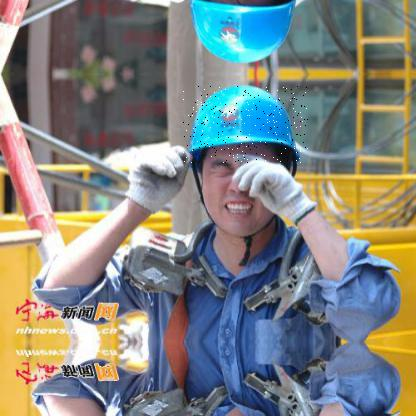safetyhelmet: (183, 86, 309, 164)
